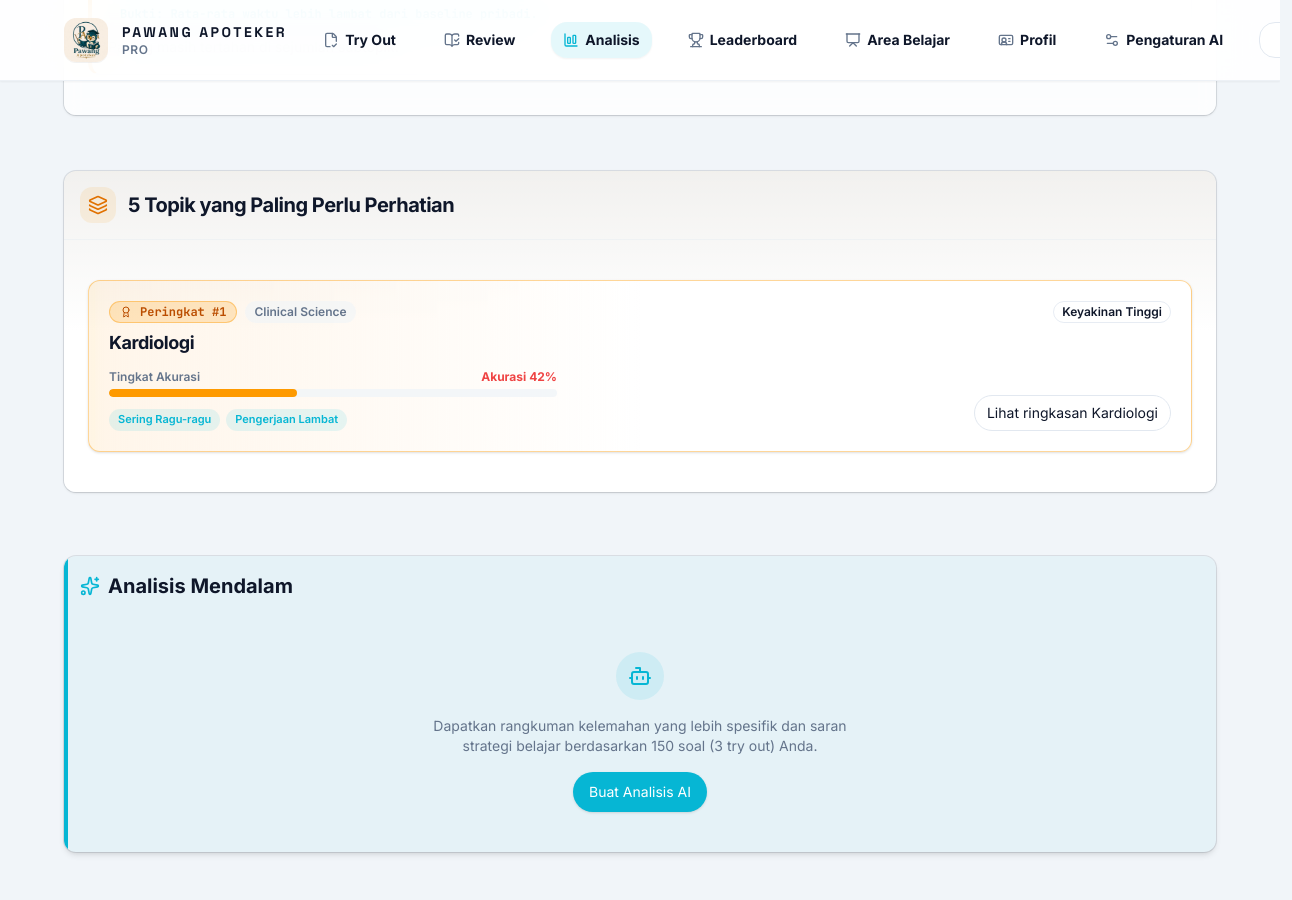
Test case: Analytics page › source=gemini displays model label and AI badge
This screenshot has width=1292, height=900.
(page scrolled)
Click the button "Buat Analisis AI" at [640, 792], box [573,772,707,812]
(page scrolled)
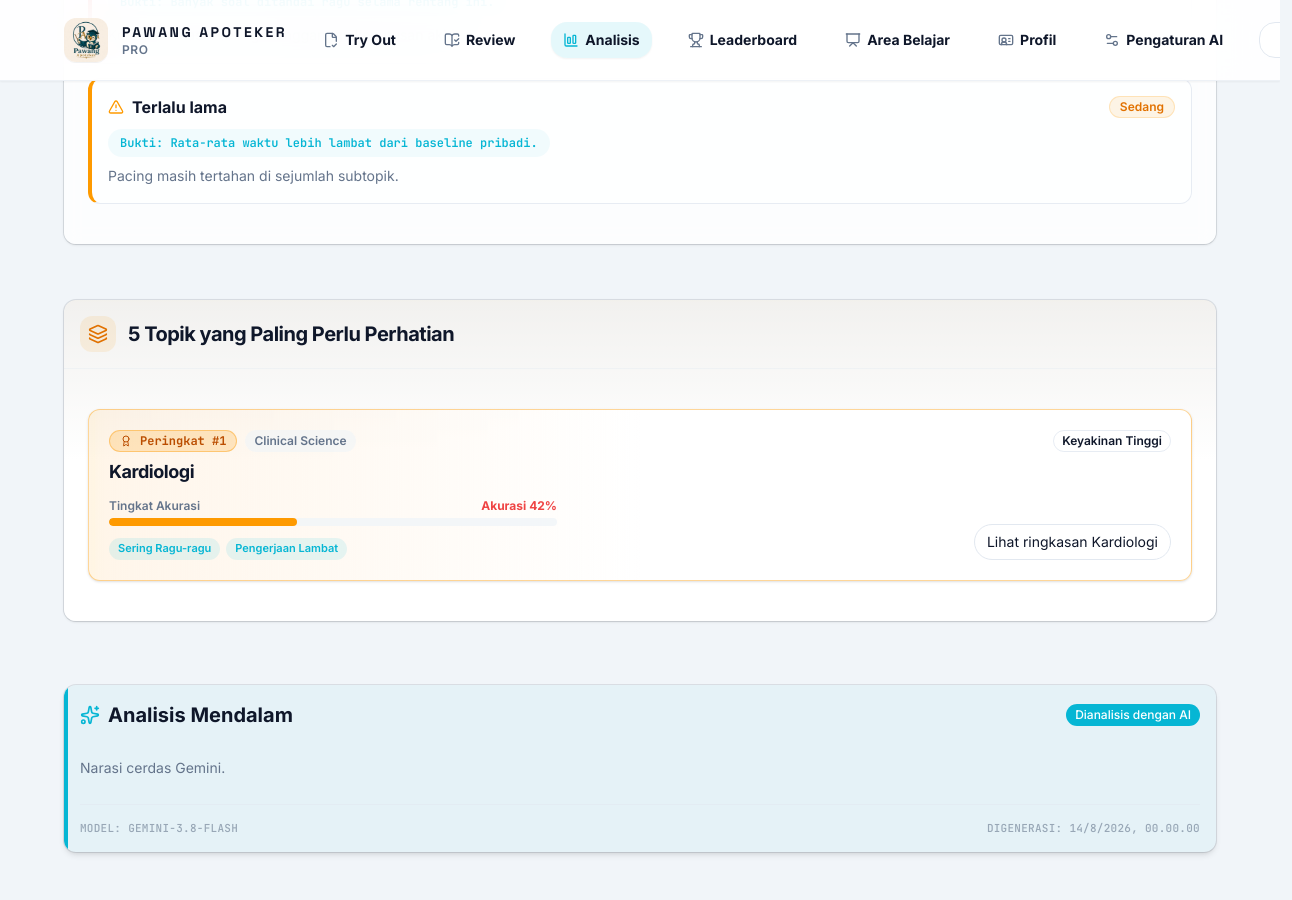
Result: the text "Narasi cerdas Gemini." is shown at [80,759,225,776]
Result: the text "Dianalisis dengan AI" is shown at [1066,704,1200,726]
Result: the text "Model: gemini-3.8-flash" is shown at [80,821,238,836]
